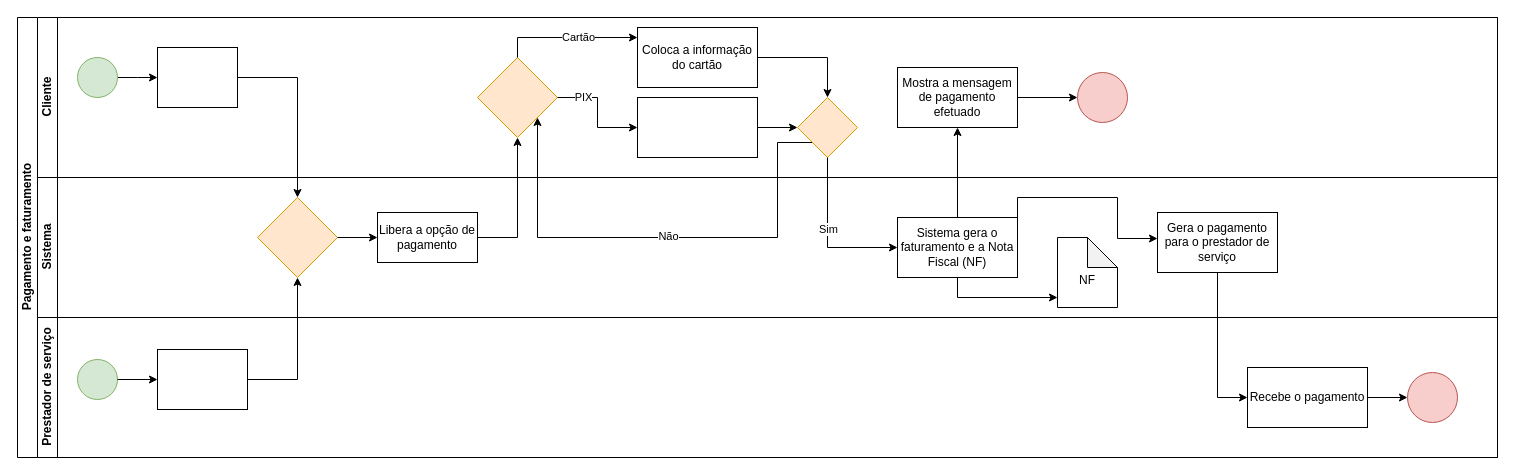
Some shapes in this 1515 by 475 pixel diagram are drawn without their labels. Here are the shapes that lost their labels. From the top down, the centre of each, then its label:
pixel 197 77: Marca que o prestador está na residência
pixel 517 97: Definição da forma de pagamento
pixel 697 127: Mostra as informações para que seja feita a transferência
pixel 827 127: Pagamento efetuado?
pixel 202 379: Marca que chegou na residência
